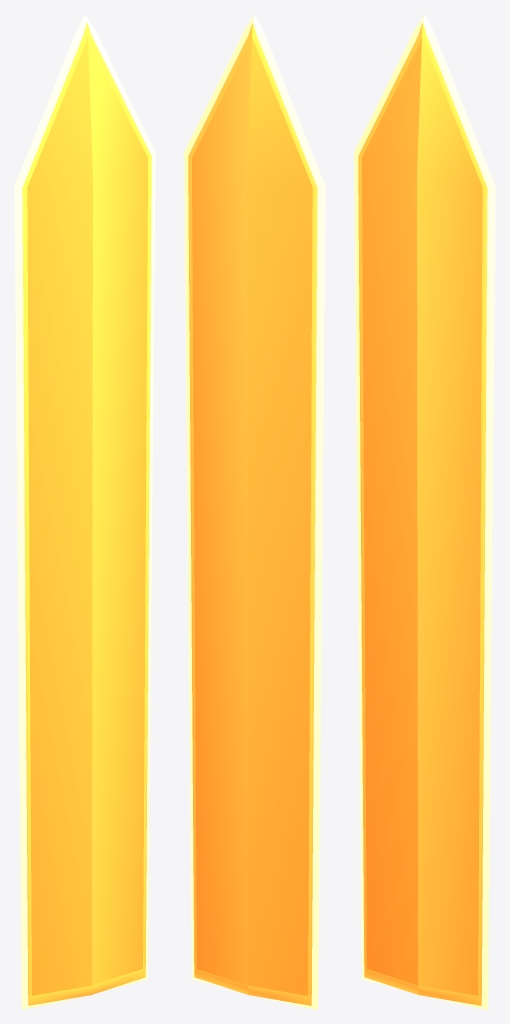
Rendered from gold_blade (7).glb.
3 views of the same model, side by side, from view 1: azimuth 30°, elevation 25°; view 2: azimuth 150°, elevation 25°; view 3: azimuth 330°, elevation 25° (orthographic).
Parts seen in each view (by area): view 1: gold_blade_steel.028; view 2: gold_blade_steel.028; view 3: gold_blade_steel.028.
Boxes of the visible parts, <box> form: gold_blade_steel.028: <box>14,14,155,1009</box>; gold_blade_steel.028: <box>184,14,325,1009</box>; gold_blade_steel.028: <box>354,14,495,1009</box>.
Bounding box in the file's own units: 1.71 × 11.4 × 0.3369.
Materials: 1 (1 with a texture image).
